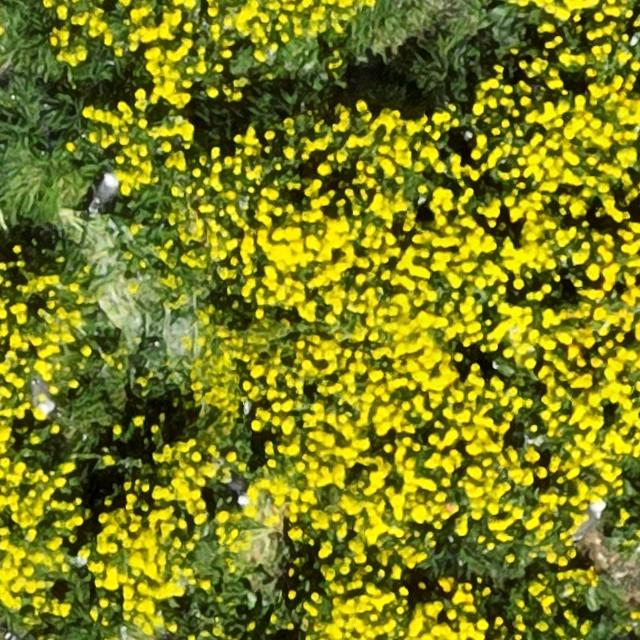umineko: (569, 499, 605, 532), (92, 173, 117, 209), (31, 378, 54, 412)
